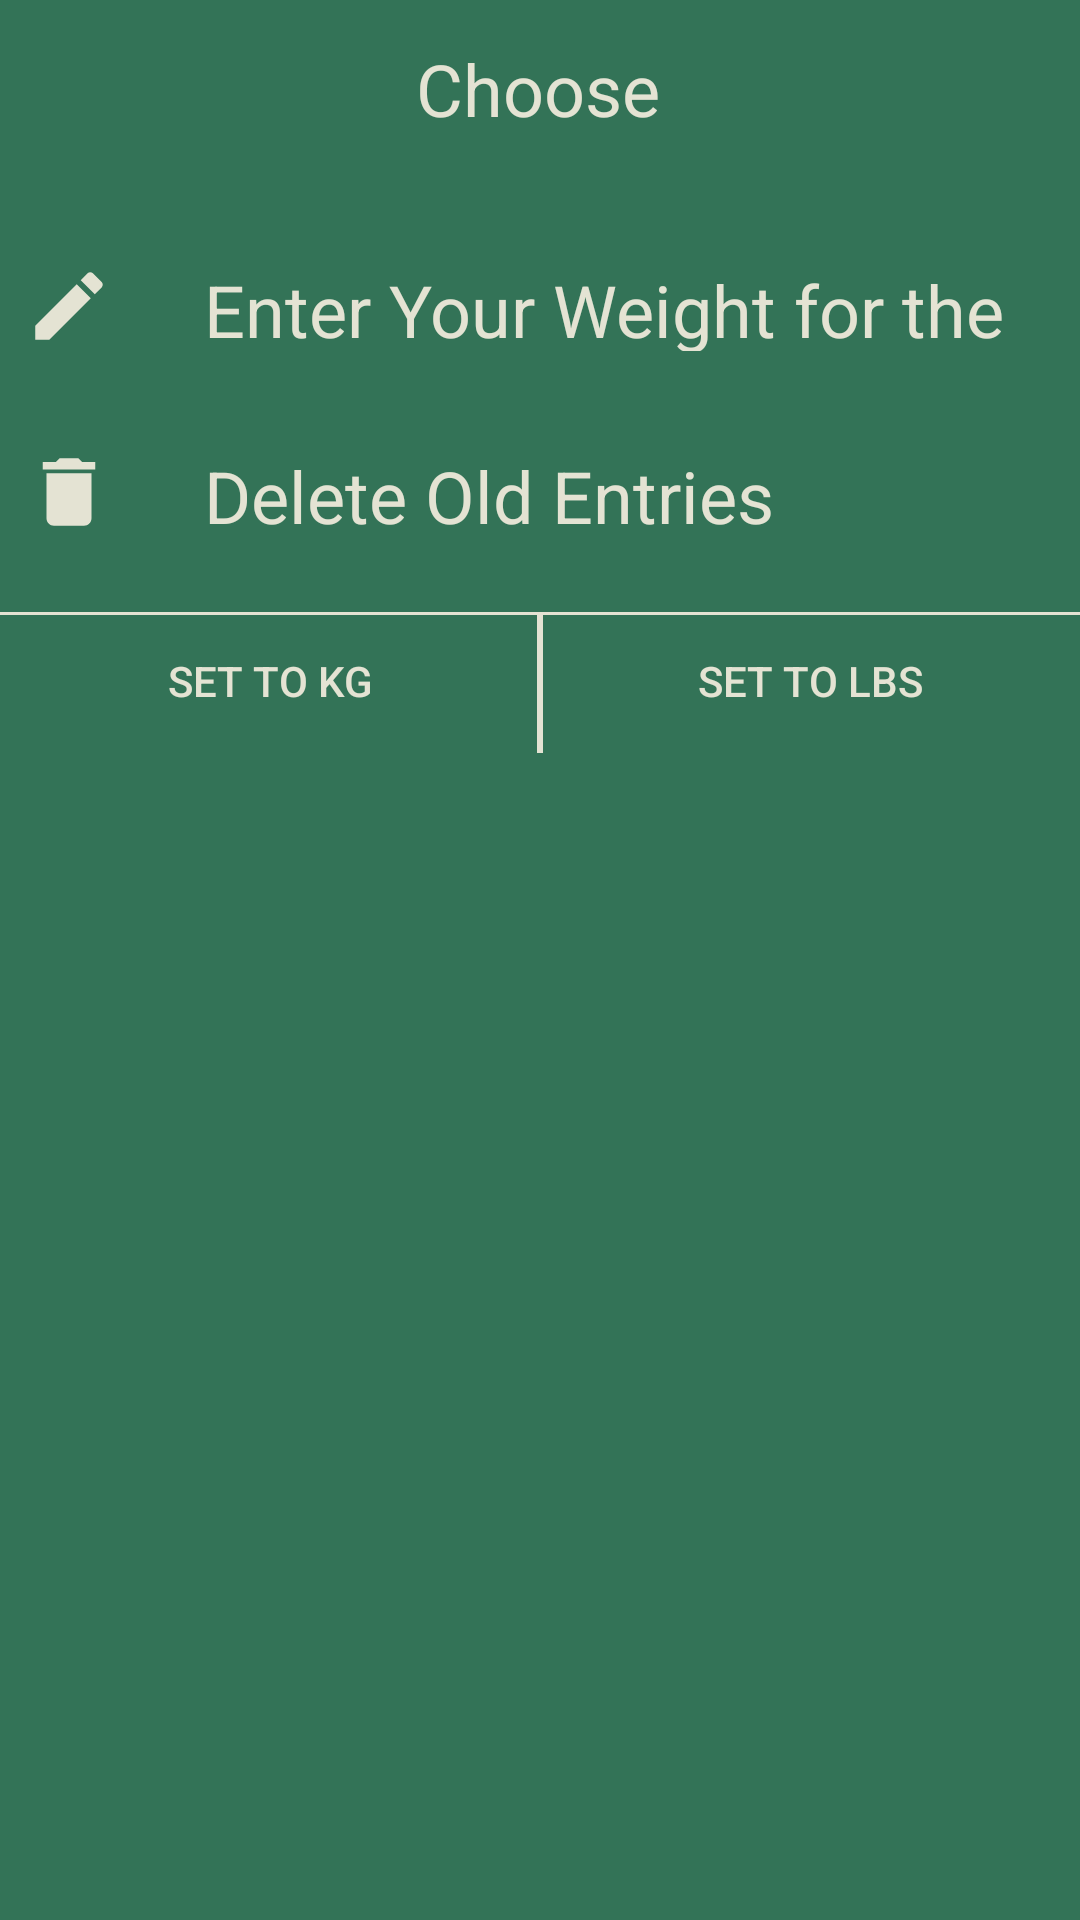

Screen size 1080×1920. Icon name, then its center in pixels as point (x, y):
edit: point (69, 306)
